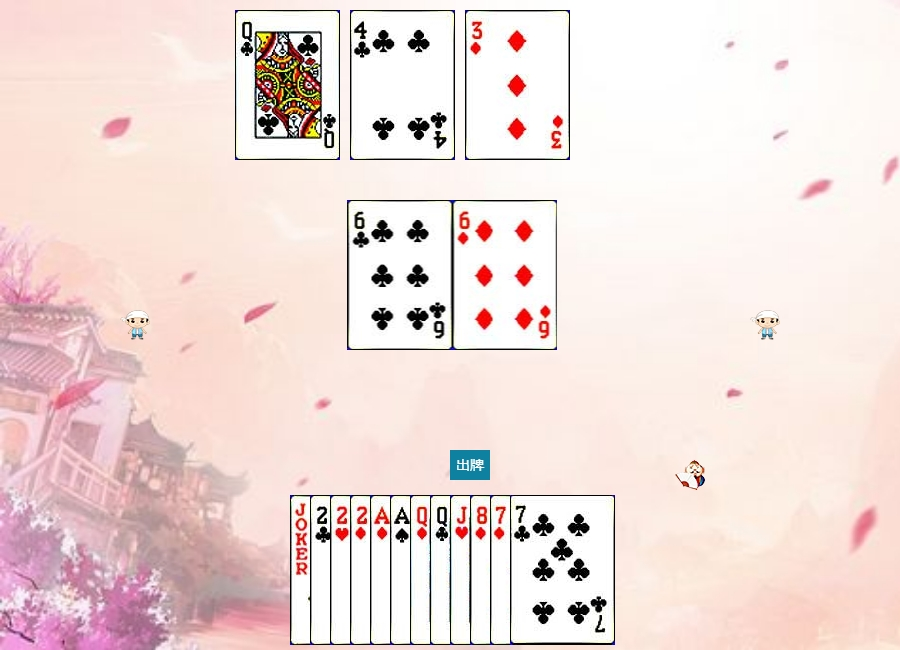11~3: (450, 495, 555, 645)
12~1: (410, 495, 515, 645)
12~2: (235, 10, 340, 160), (430, 495, 535, 645)
14~1: (370, 495, 475, 645)
14~4: (390, 495, 495, 645)
15~1: (350, 495, 455, 645)
15~2: (310, 495, 415, 645)
15~3: (330, 495, 435, 645)
18~4: (290, 495, 395, 645)
3~1: (465, 10, 570, 160)
4~2: (350, 10, 455, 160)
6~1: (453, 200, 558, 350)
6~2: (348, 200, 453, 350)
7~1: (490, 495, 595, 645)
7~2: (510, 495, 615, 645)
8~1: (470, 495, 575, 645)
